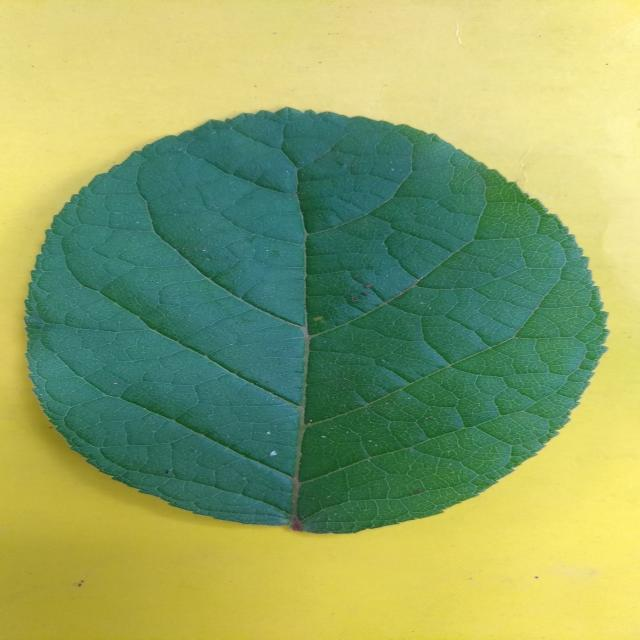padri: (27, 109, 607, 532)
